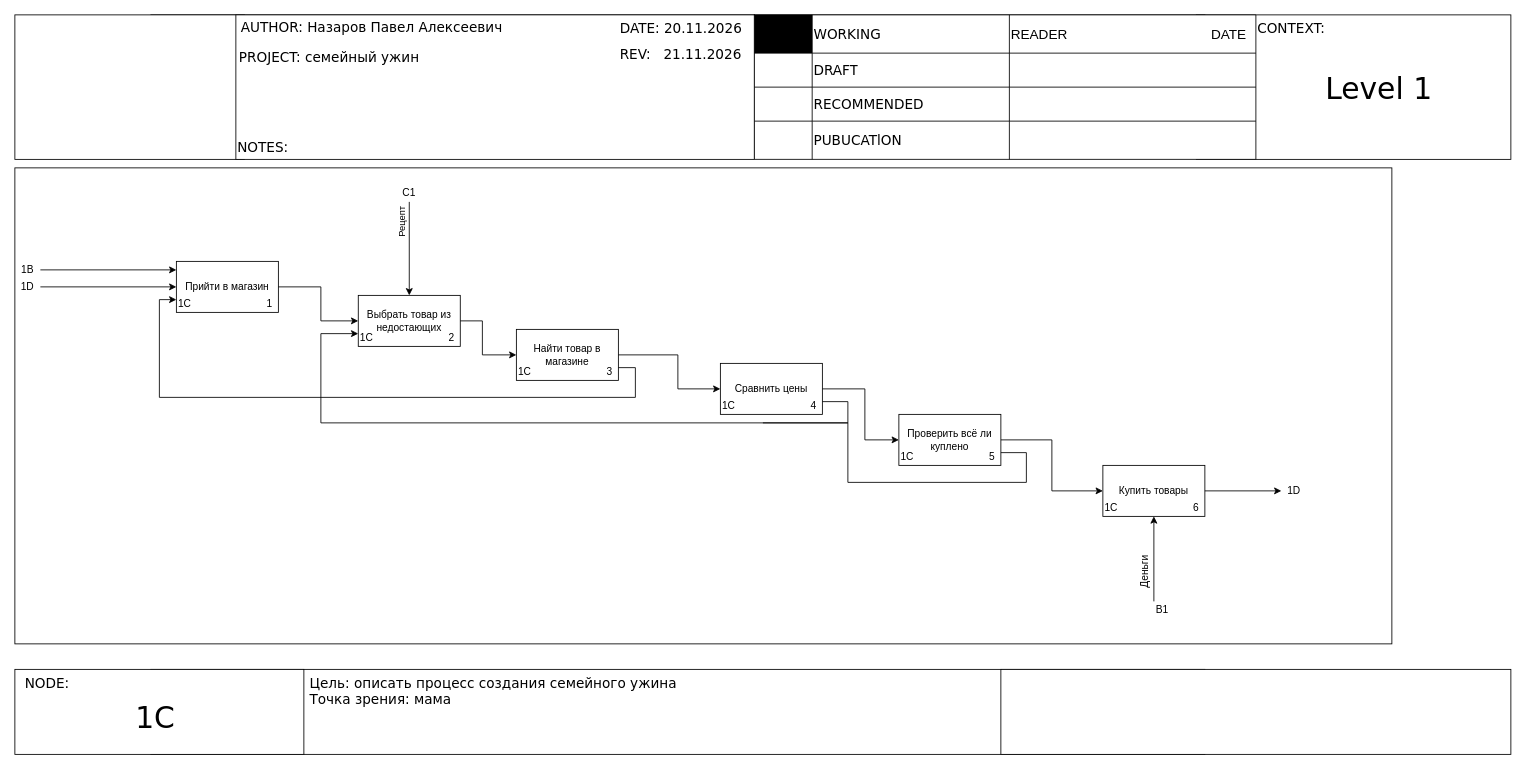
Image size: 1526x769. Some labels were removed from this diagram. The shapes that lost their labels are listed below. From the top down, each one's centre as x and y in pixels, then its label:
At [129,86]: "USET AT: РИС-26-3б проект".
At [1255,711]: "NUMBER:".
